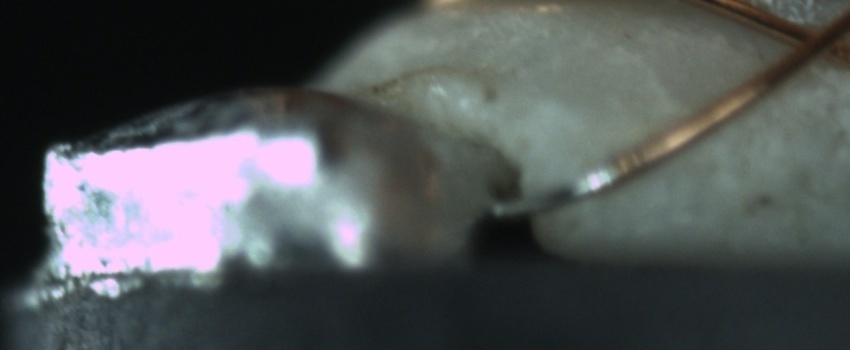CL: (778, 12, 845, 72)
TS: (486, 162, 621, 222)
TTCW: (490, 137, 658, 224)
